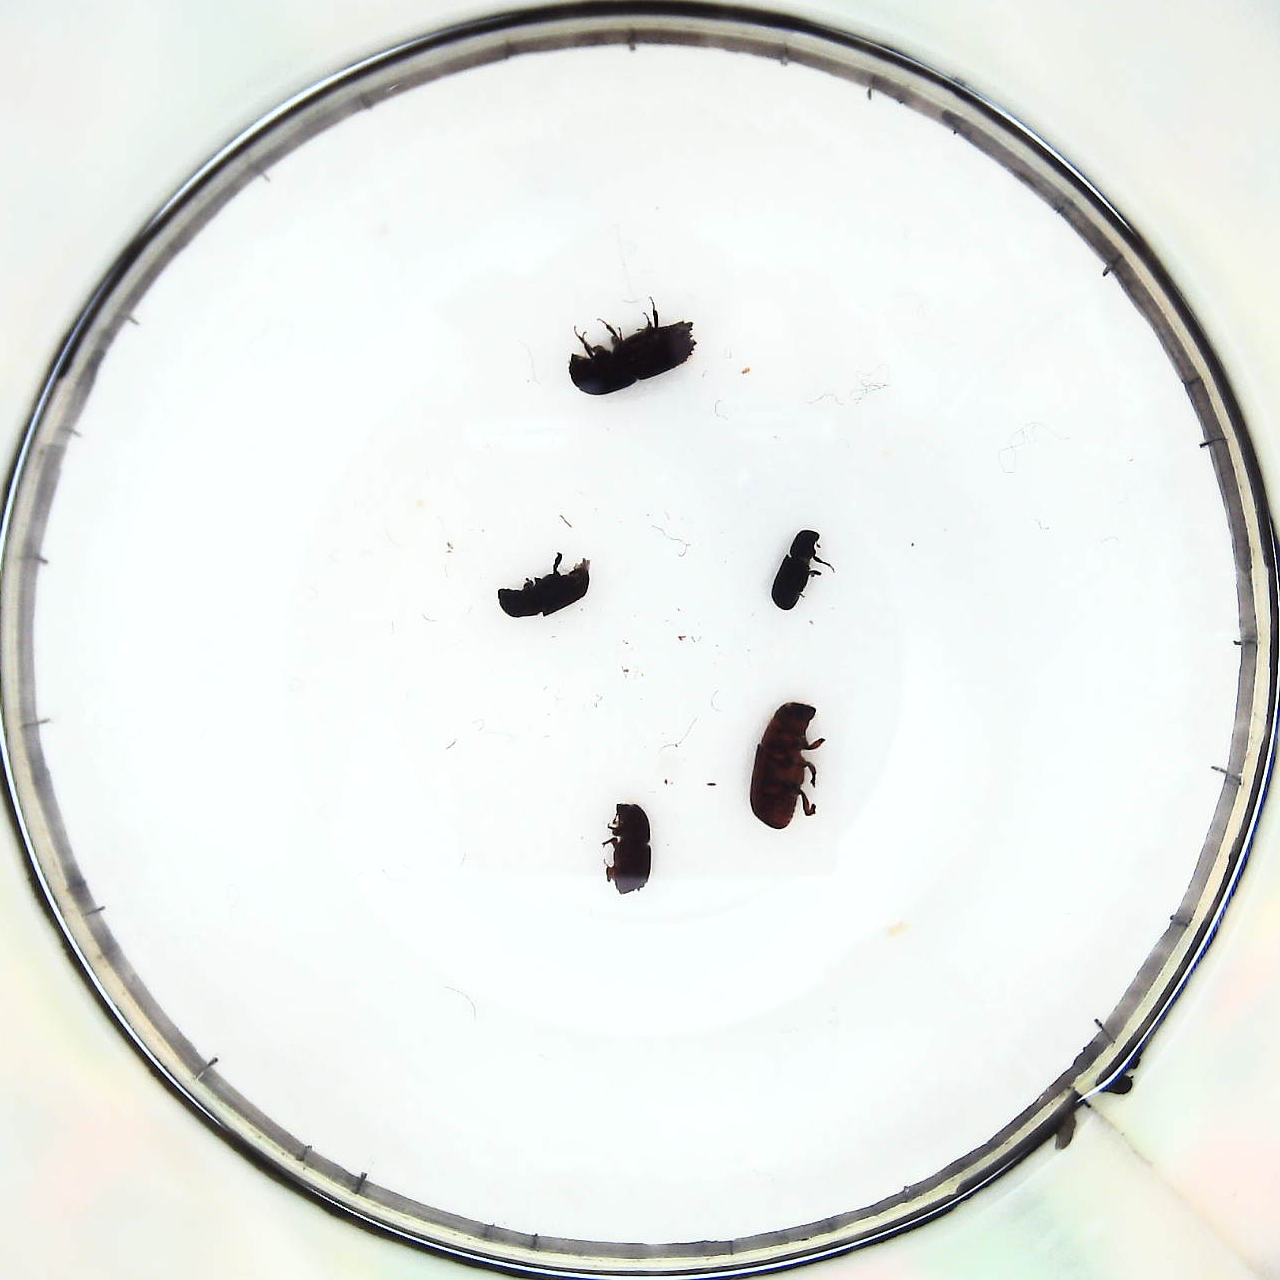Boerner: (564, 309, 694, 396)
Leconte: (751, 700, 823, 829)
Linnaeus: (606, 799, 655, 899)
armandi: (488, 554, 590, 620)
coleoptera: (769, 530, 824, 608)
